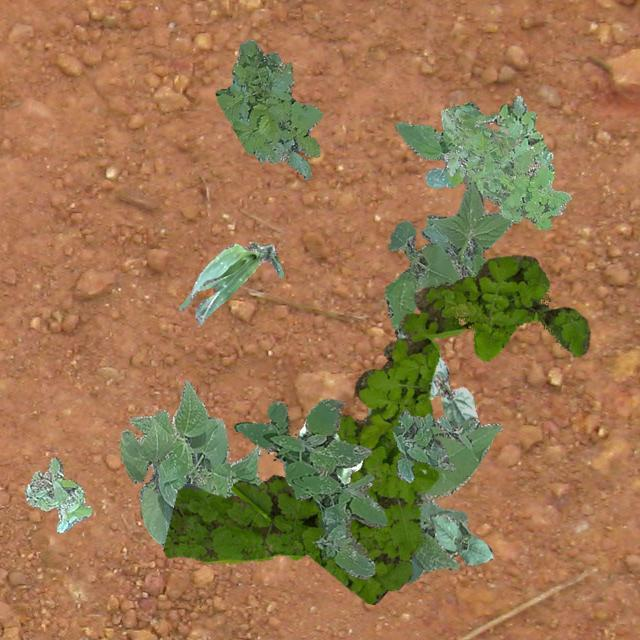crop: (118, 378, 260, 546), (366, 407, 500, 582), (178, 240, 282, 324), (394, 326, 476, 424), (297, 421, 361, 484), (428, 514, 492, 564)
weed: (230, 254, 588, 604), (234, 398, 386, 578), (383, 180, 512, 328), (440, 104, 570, 228), (215, 38, 322, 178), (162, 474, 304, 562), (394, 100, 506, 204), (471, 94, 554, 194), (392, 408, 478, 482), (24, 457, 90, 532)
